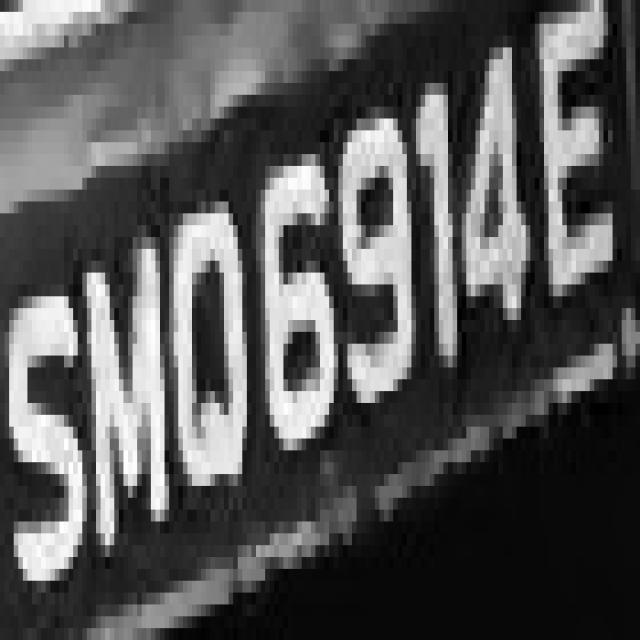1: (412, 47, 476, 415)
4: (448, 48, 535, 391)
6: (247, 142, 347, 474)
9: (325, 83, 416, 462)
E: (526, 12, 622, 355)
M: (82, 213, 169, 557)
Q: (169, 166, 270, 486)
S: (0, 248, 91, 628)
